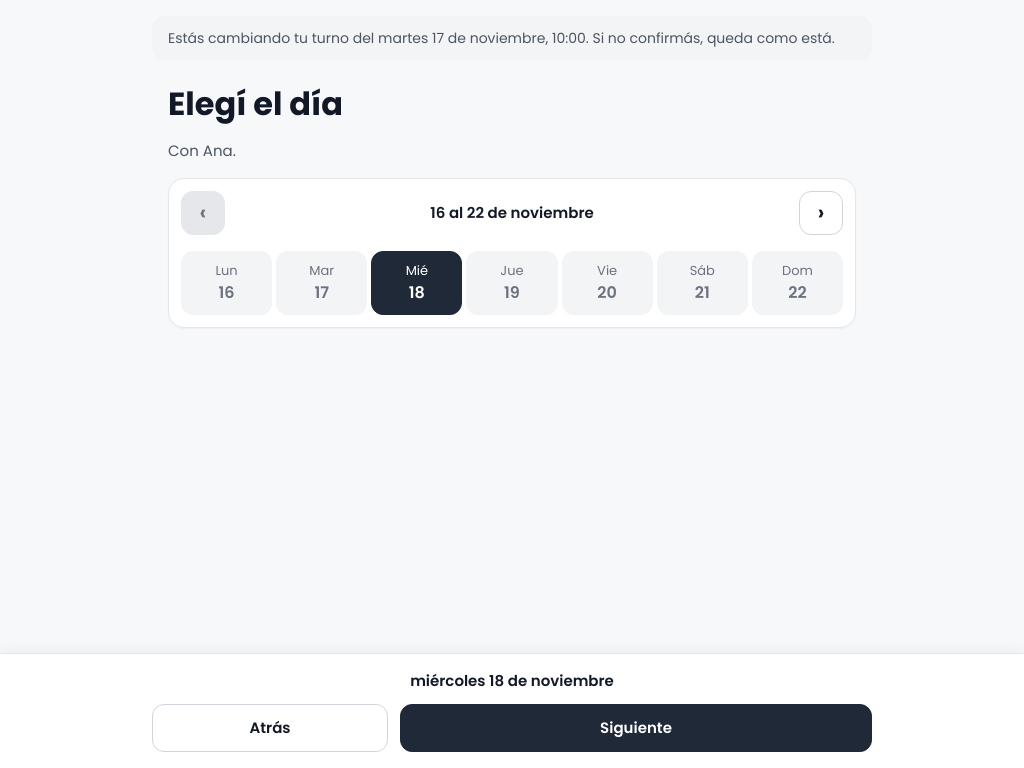
Test: Reprogramar › "Atrás" en el calendario vuelve a Mi turno sin cambiar nada
The image size is (1024, 768).
Check: the button with aria-label "miércoles 18 de noviembre" is shown, box [371,251,462,315]
Click the link "Atrás" at (270, 728), box [152,704,388,752]
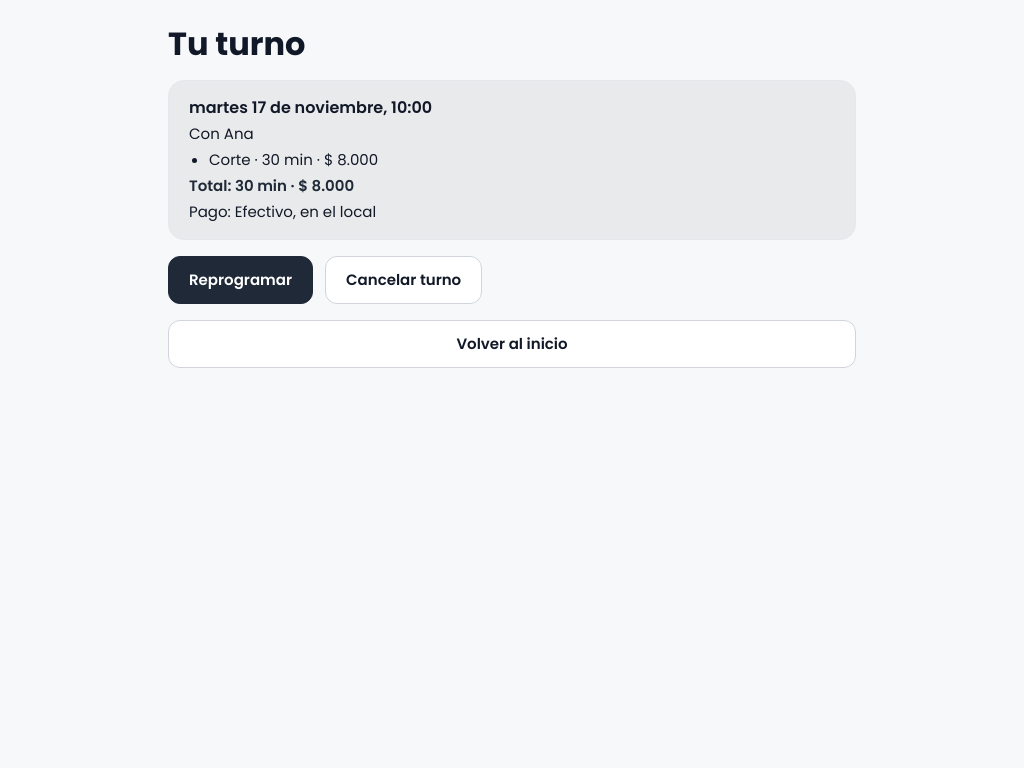
Check: the heading "Tu turno" is shown, box [168,21,306,66]
